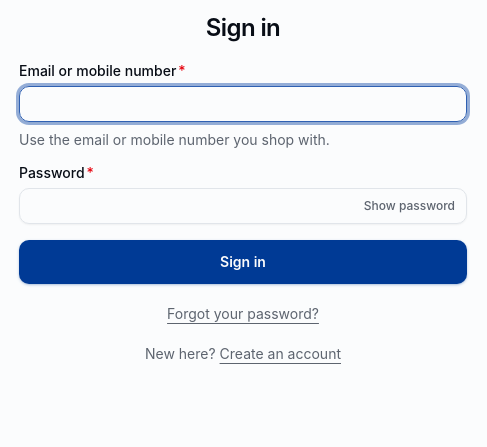
Test case: signing in › shows one message for a wrong password and never says whether the account exists
Type "ghost@example.com" into the field labelled "Email or mobile number*". click: (243, 104)
box: [19,86,467,122]
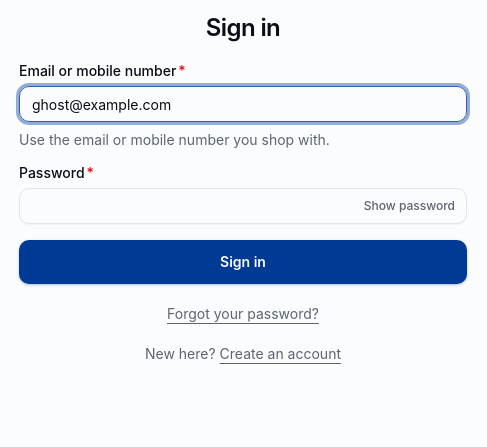
Type "wrong-password-1" into the password field labelled "Password*". click: (243, 206)
box: [19,188,467,224]
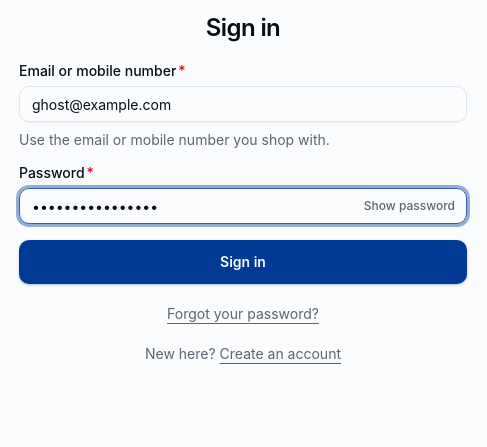
Click the button "Sign in". click: (243, 262)
box: [19,240,467,284]
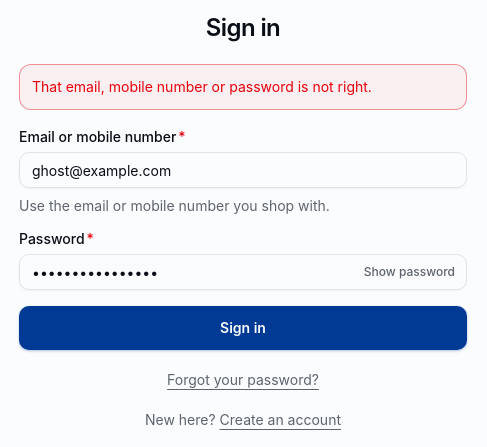
Now the message reads "That email, mobile number or password is not right.", box [32,78,372,95]
